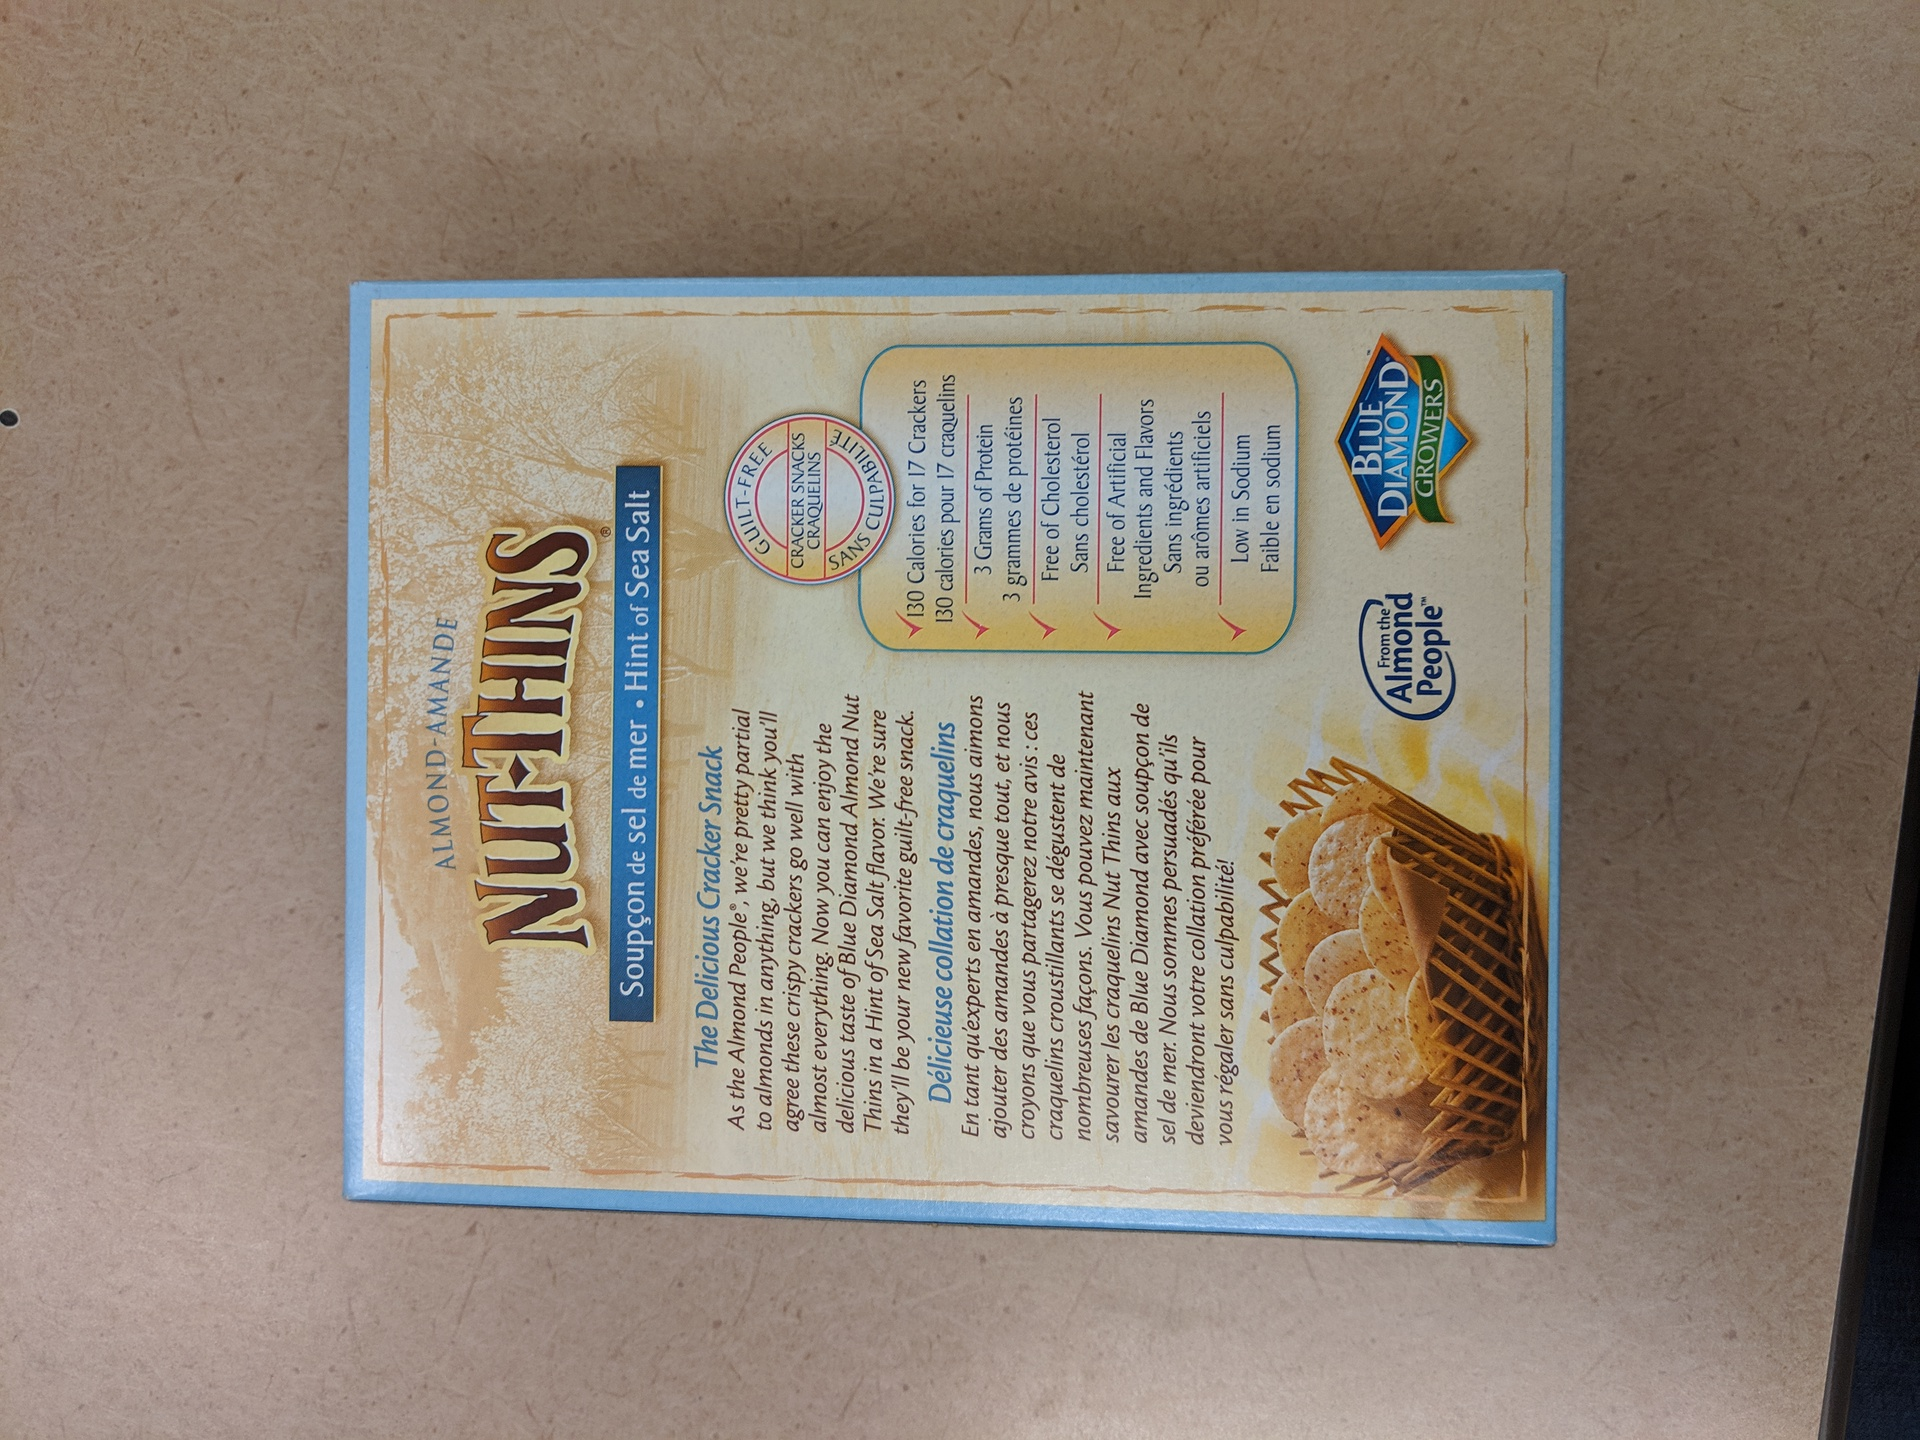blue_diamond_nut_thins_almond_seasalt: (351, 272, 1566, 1246)
